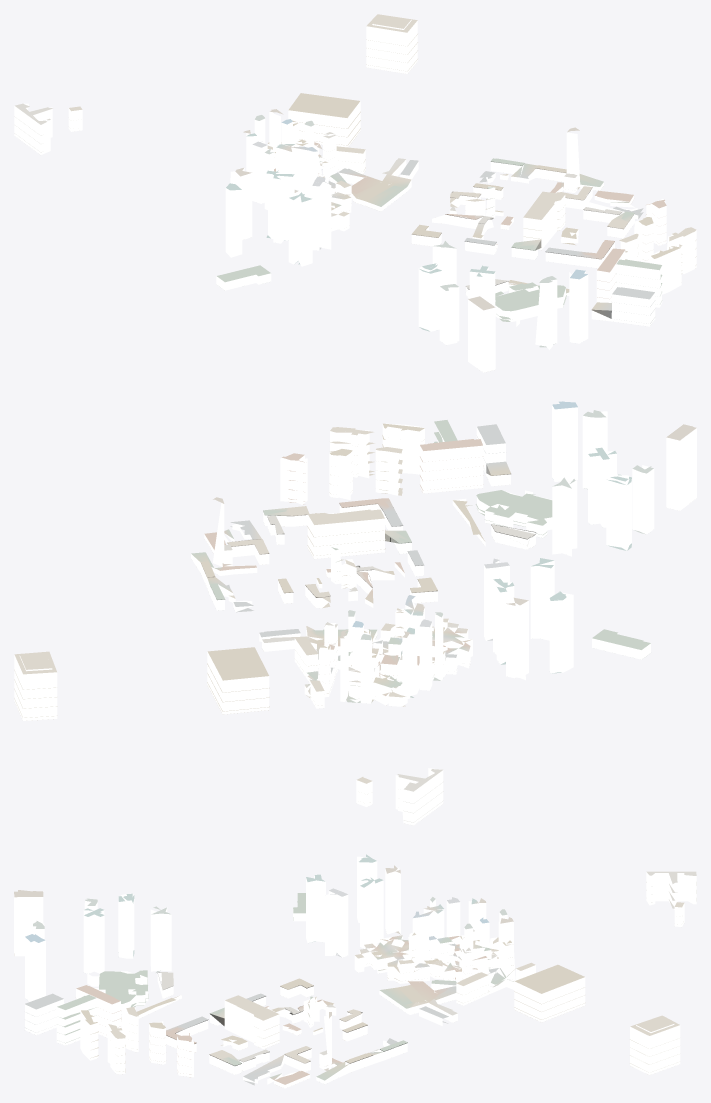
Rendered from buildings--11_3-coarse.glb.
The picture shows the model from 3 angles, top to bottom: view 1: azimuth 30°, elevation 25°; view 2: azimuth 150°, elevation 25°; view 3: azimuth 270°, elevation 25°; orthographic projection. The views are drawn at different scales.
Visible parts, largest first — view 1: block_-11_3_residential, block_-11_3_office, block_-11_3_roof, block_-11_3_concrete; view 2: block_-11_3_residential, block_-11_3_office, block_-11_3_roof, block_-11_3_concrete; view 3: block_-11_3_residential, block_-11_3_office, block_-11_3_roof, block_-11_3_concrete.
Boxes of the visible parts, x1,y1,x2,y2 form: block_-11_3_residential: (14,20,696,326); block_-11_3_office: (225,112,588,372); block_-11_3_roof: (14,14,696,347); block_-11_3_concrete: (412,161,634,318); block_-11_3_residential: (14,423,650,825); block_-11_3_office: (213,402,696,703); block_-11_3_roof: (14,401,696,823); block_-11_3_concrete: (201,464,535,600); block_-11_3_residential: (25,872,696,1088); block_-11_3_office: (14,856,513,1069); block_-11_3_roof: (14,854,696,1085); block_-11_3_concrete: (157,972,407,1065).
Bounding box in the file's own units: 405 × 67.21 × 628.
